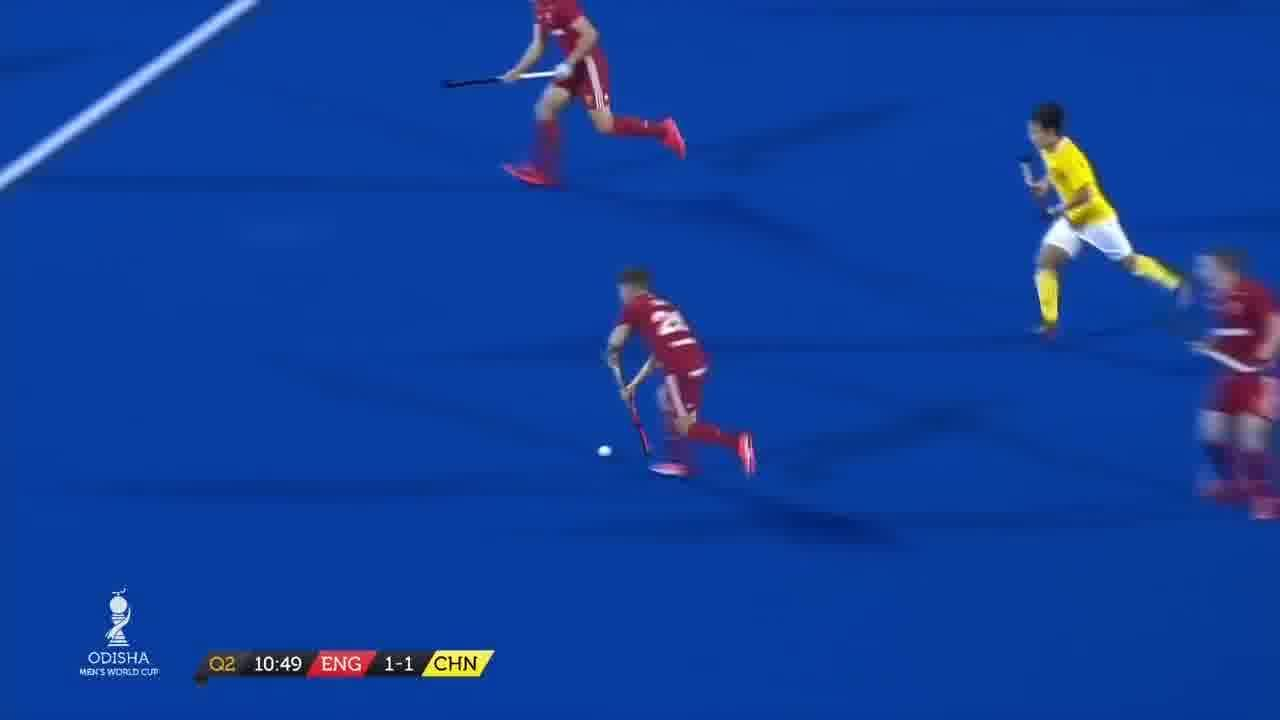ball: (596, 436, 622, 460)
